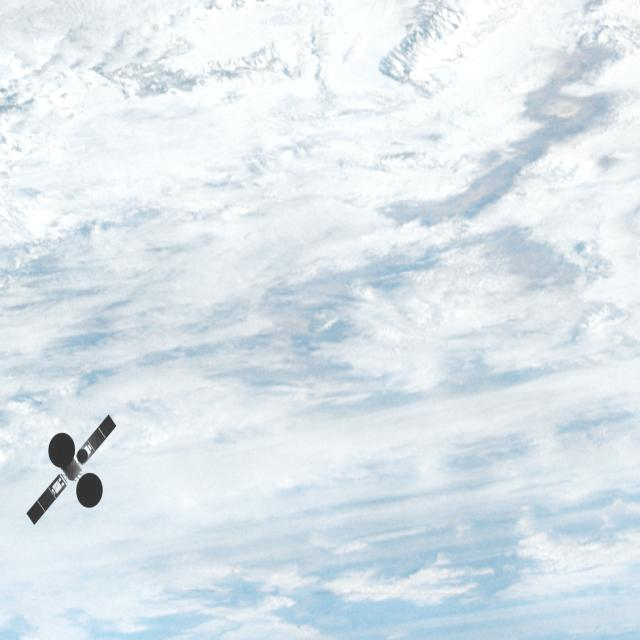satellite: (18, 407, 127, 541)
